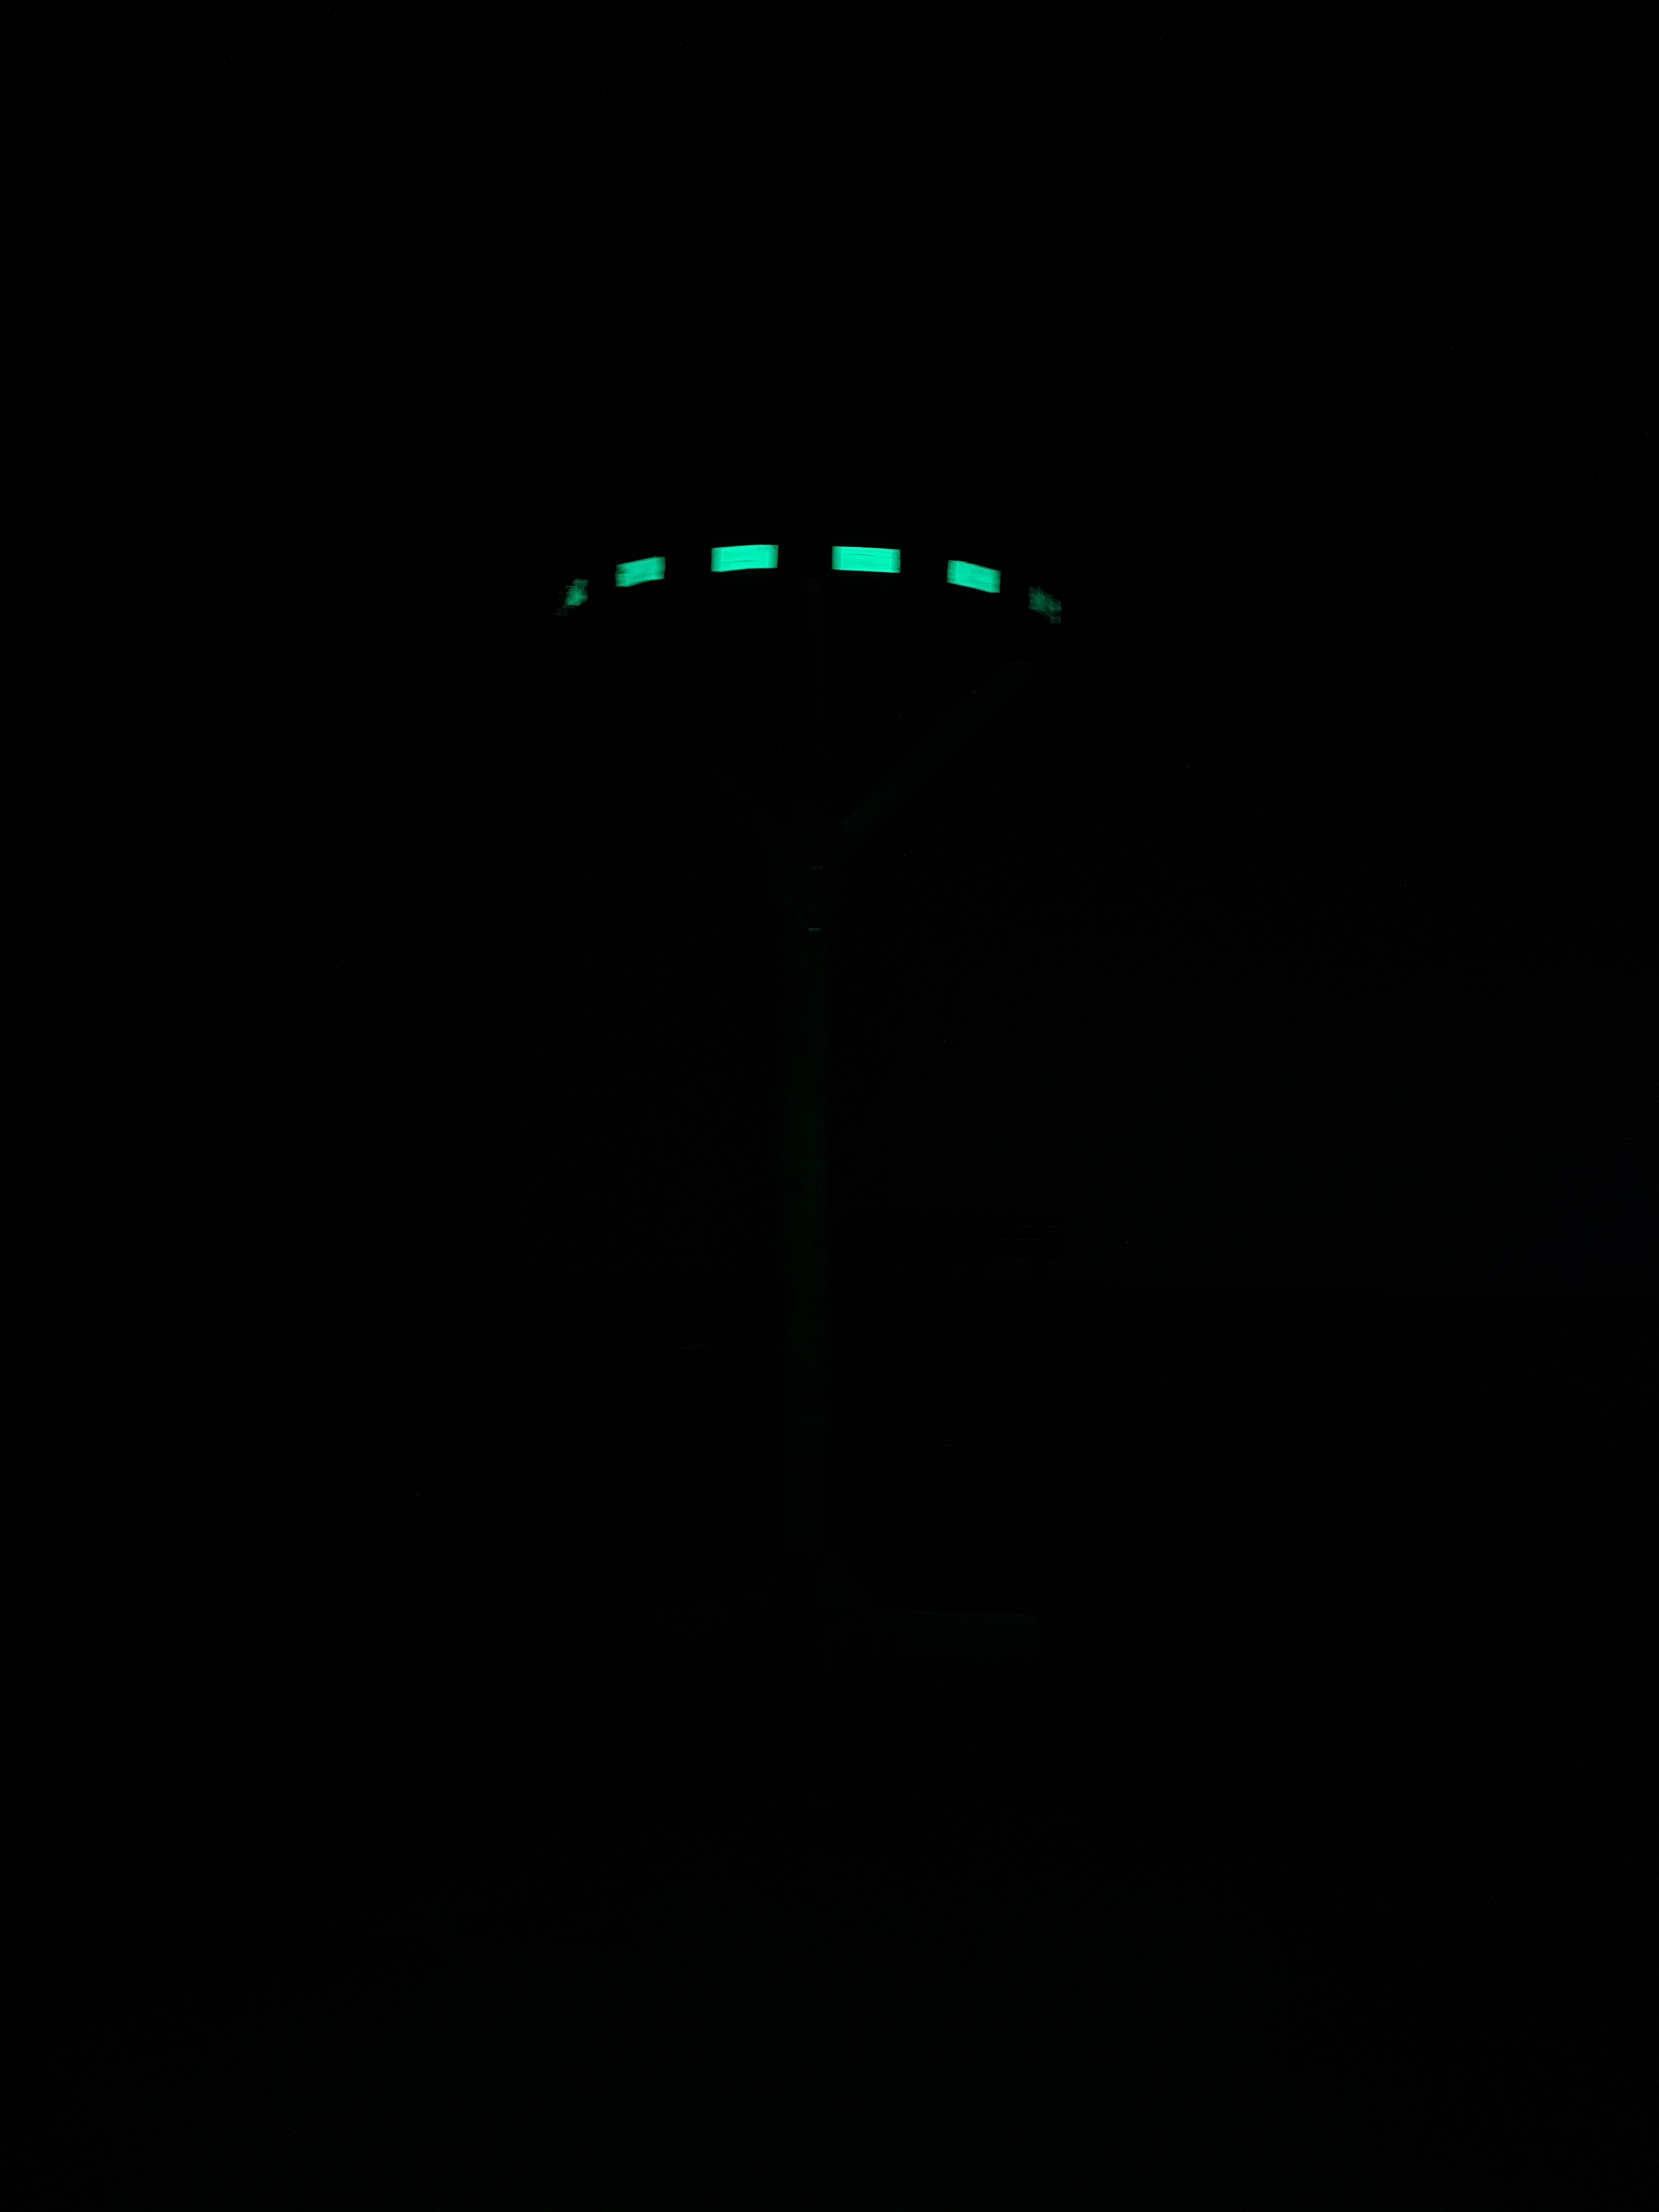hoop: (554, 540, 1065, 643)
